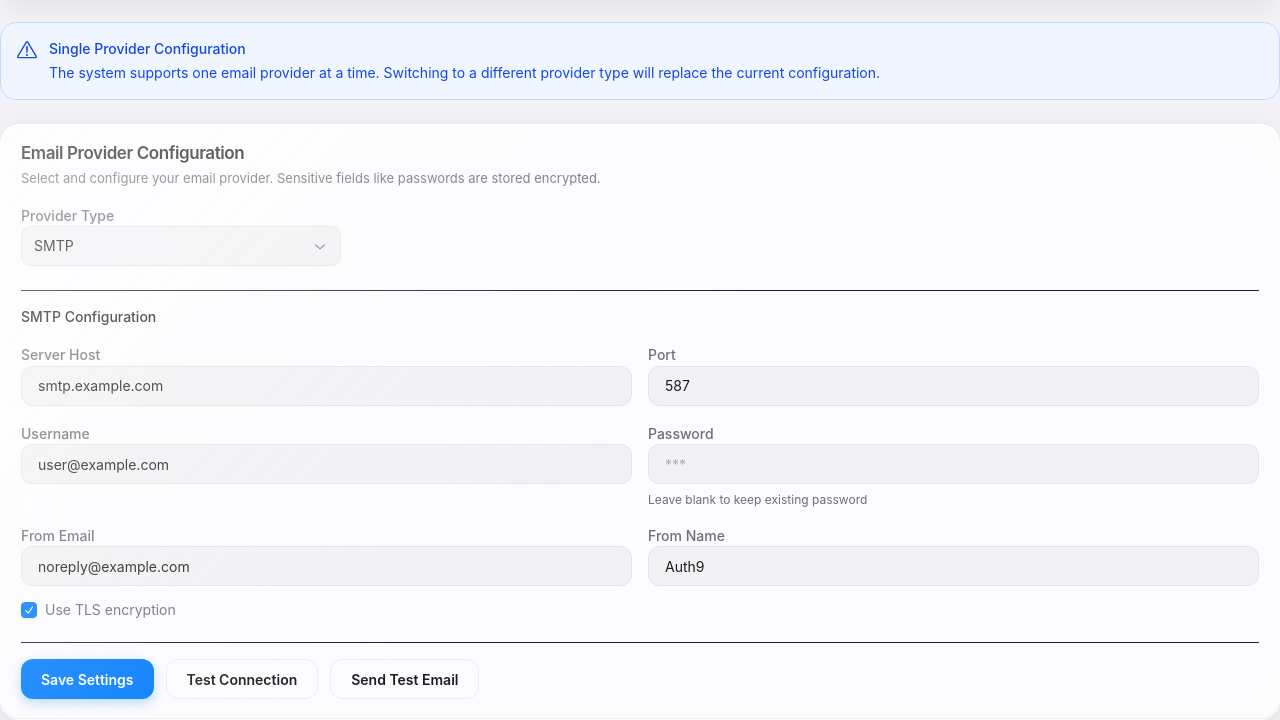
Test: Email Settings Page › opens test email dialog when clicking Send Test Email button
This screenshot has width=1280, height=720.
(page scrolled)
Click the button "Send Test Email" at (405, 679), box x1=330 y1=659 x2=480 y2=699
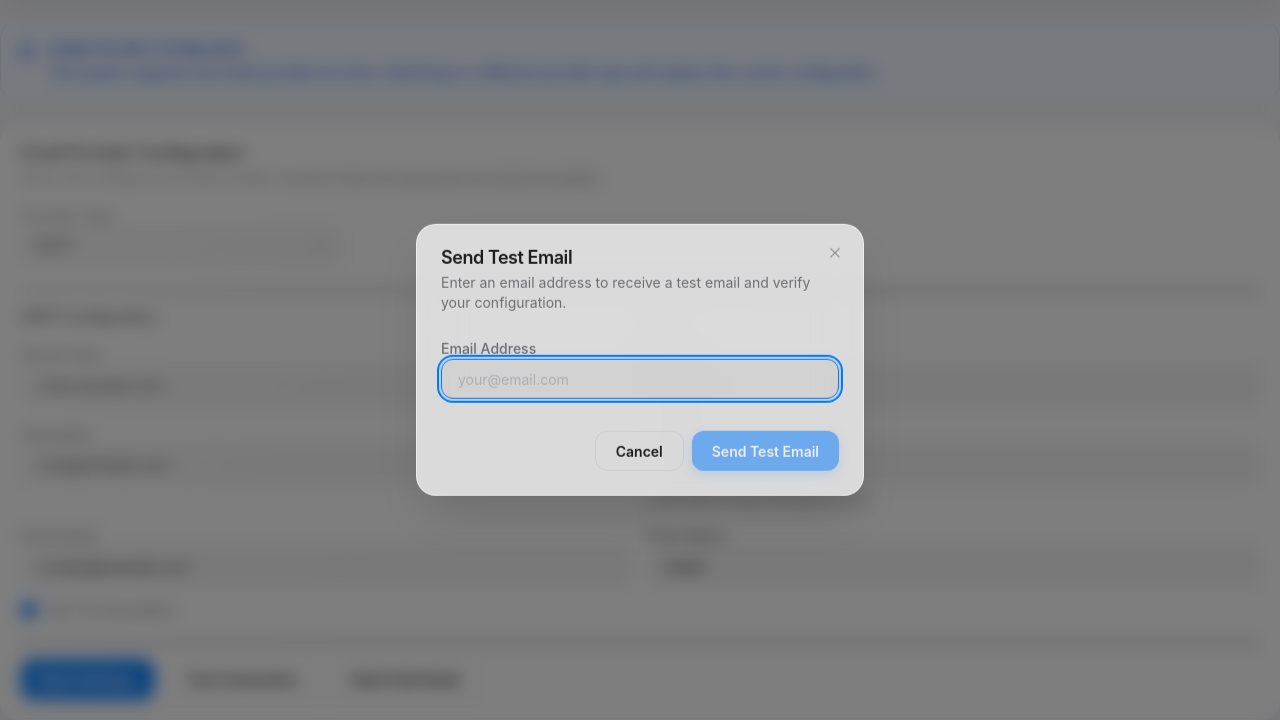
Now the text "Enter an email address to receive a test email and verify your configuration." is shown, box x1=441 y1=273 x2=839 y2=313
Now the field labelled "Email Address" is shown, box x1=441 y1=359 x2=839 y2=399
